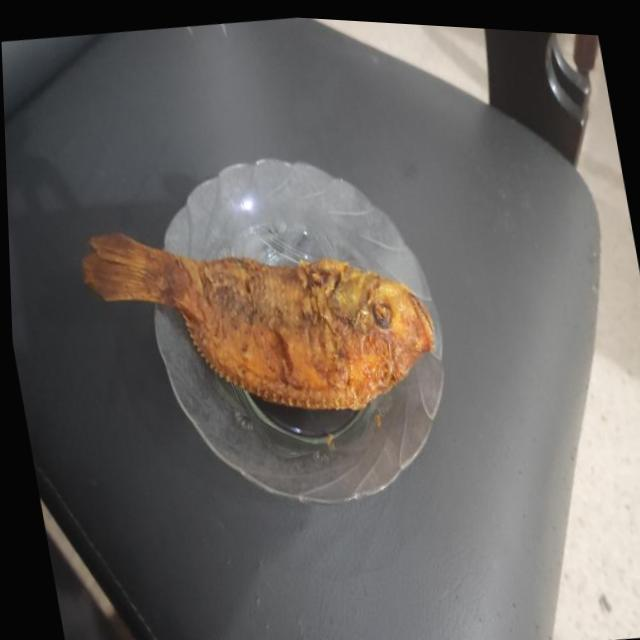ikan_mujair: (84, 233, 434, 410)
